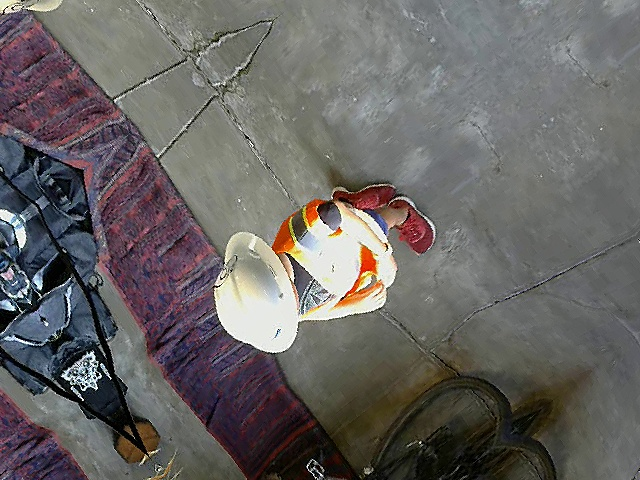eight: (206, 251, 243, 290)
